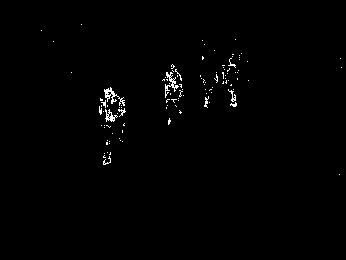person: (94, 87, 128, 164), (162, 63, 184, 126), (222, 56, 239, 108), (201, 56, 218, 107)
